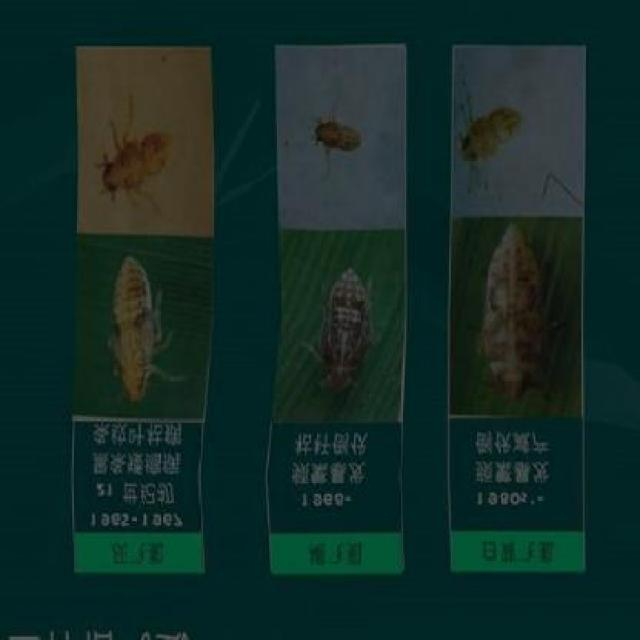brown-planthopper: (483, 220, 549, 403), (103, 248, 162, 404), (320, 264, 371, 398)
